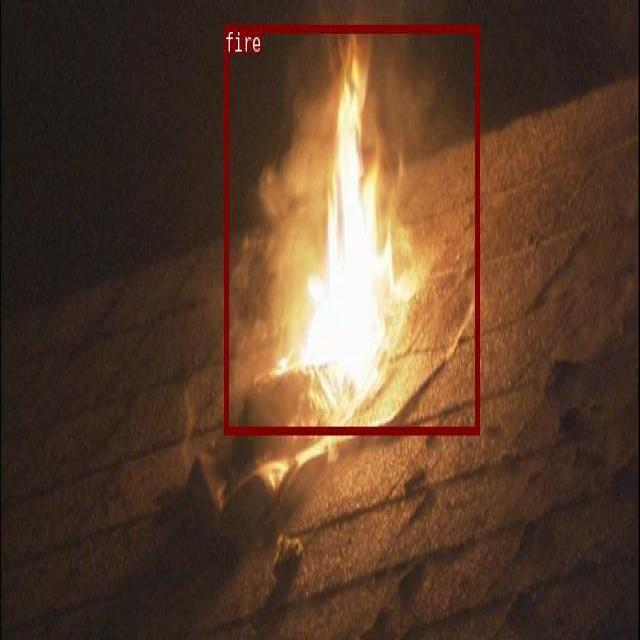fire: (223, 25, 479, 433)
